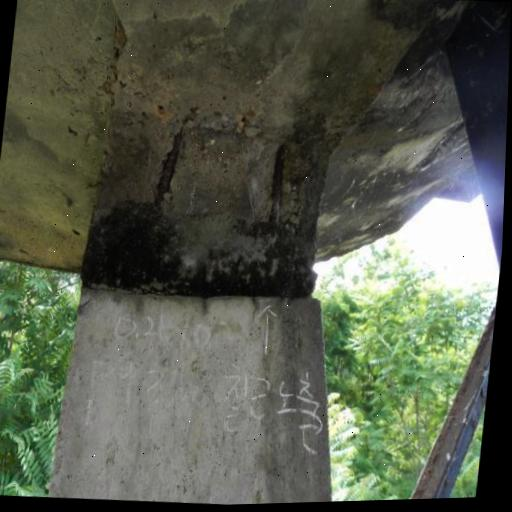exposed_rebar: (154, 128, 184, 207), (270, 145, 285, 223)
